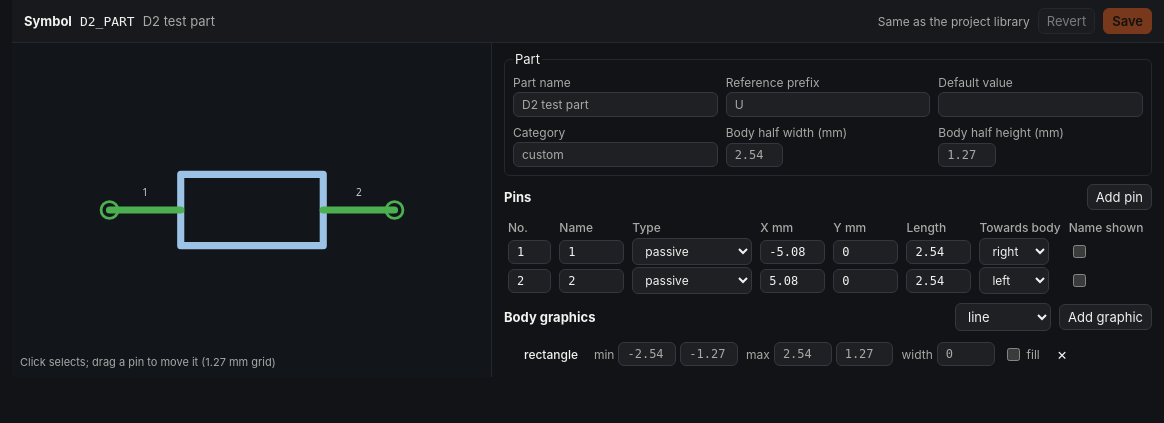
Test: symbol editor › regression: a footprint saved by the other editor reaches the symbol draft (a new pin maps to the new pad)
Click the button "Add pin": (1119, 197) [1087, 184, 1152, 210]
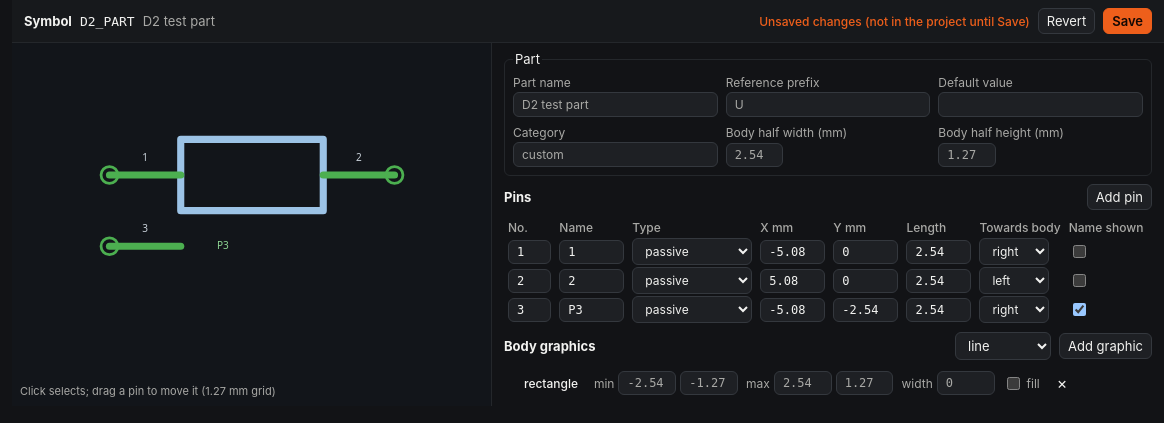
Now the button "Save" is enabled, box [1103, 8, 1152, 34]
